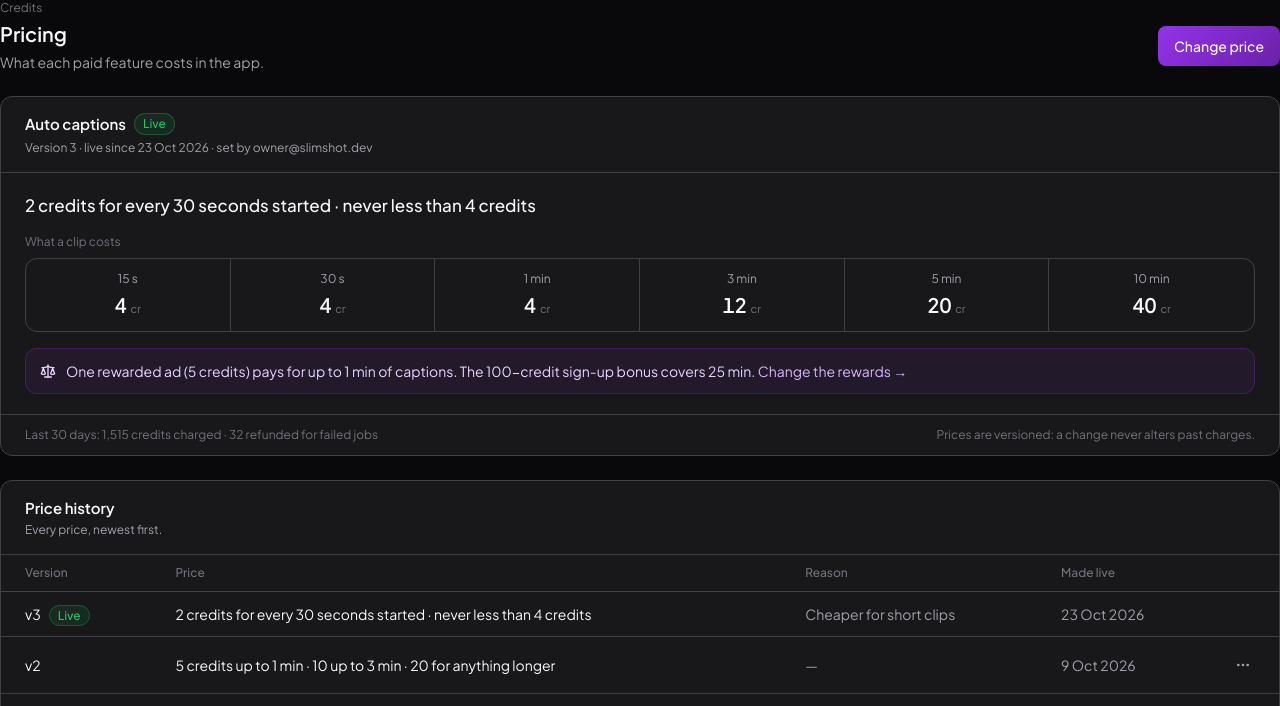
PricingPage › opens Change price filled with the live price
This screenshot has width=1280, height=706.
What coordinates should you click on to do the following:
click the button "Change price"
I would click on:
 (1219, 46)
Its box is x1=1158 y1=26 x2=1279 y2=66.
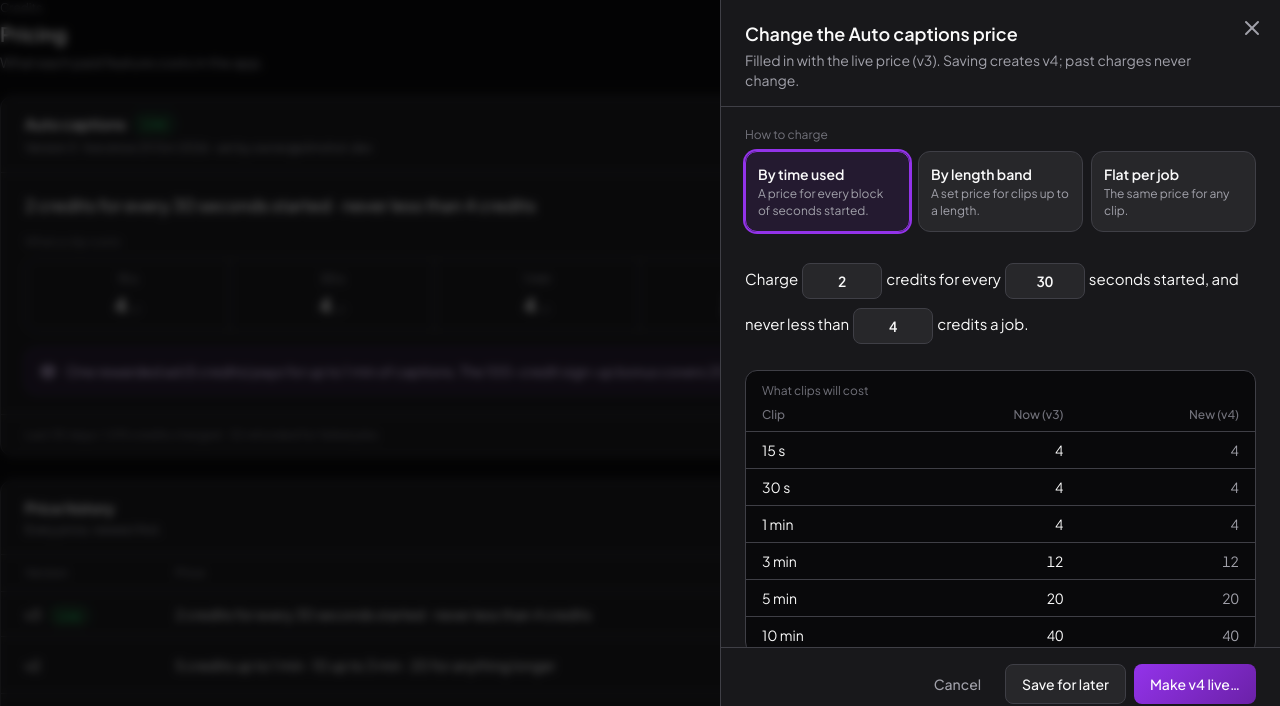
Now the text "Filled in with the live price (v3)" is shown, box x1=745 y1=51 x2=1191 y2=89
